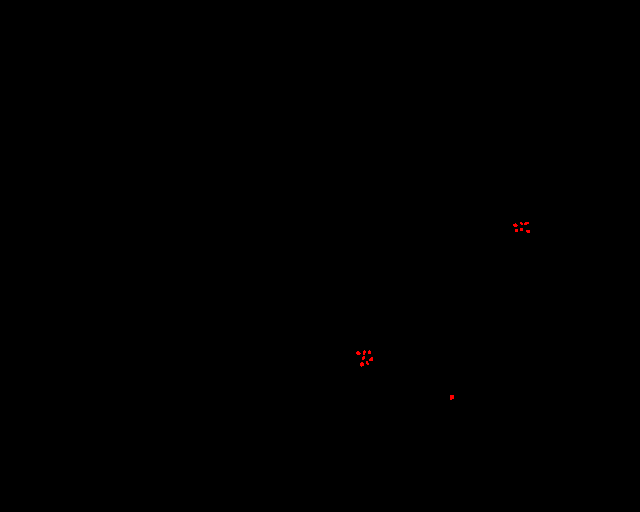Target: (513, 223, 518, 227), (356, 351, 361, 355), (360, 362, 364, 367), (450, 395, 454, 400), (369, 357, 373, 361), (524, 222, 529, 225), (363, 350, 366, 355), (526, 230, 530, 233), (368, 350, 371, 354), (362, 356, 365, 360), (366, 361, 369, 365), (520, 222, 523, 225), (520, 228, 523, 231), (515, 229, 518, 232)
